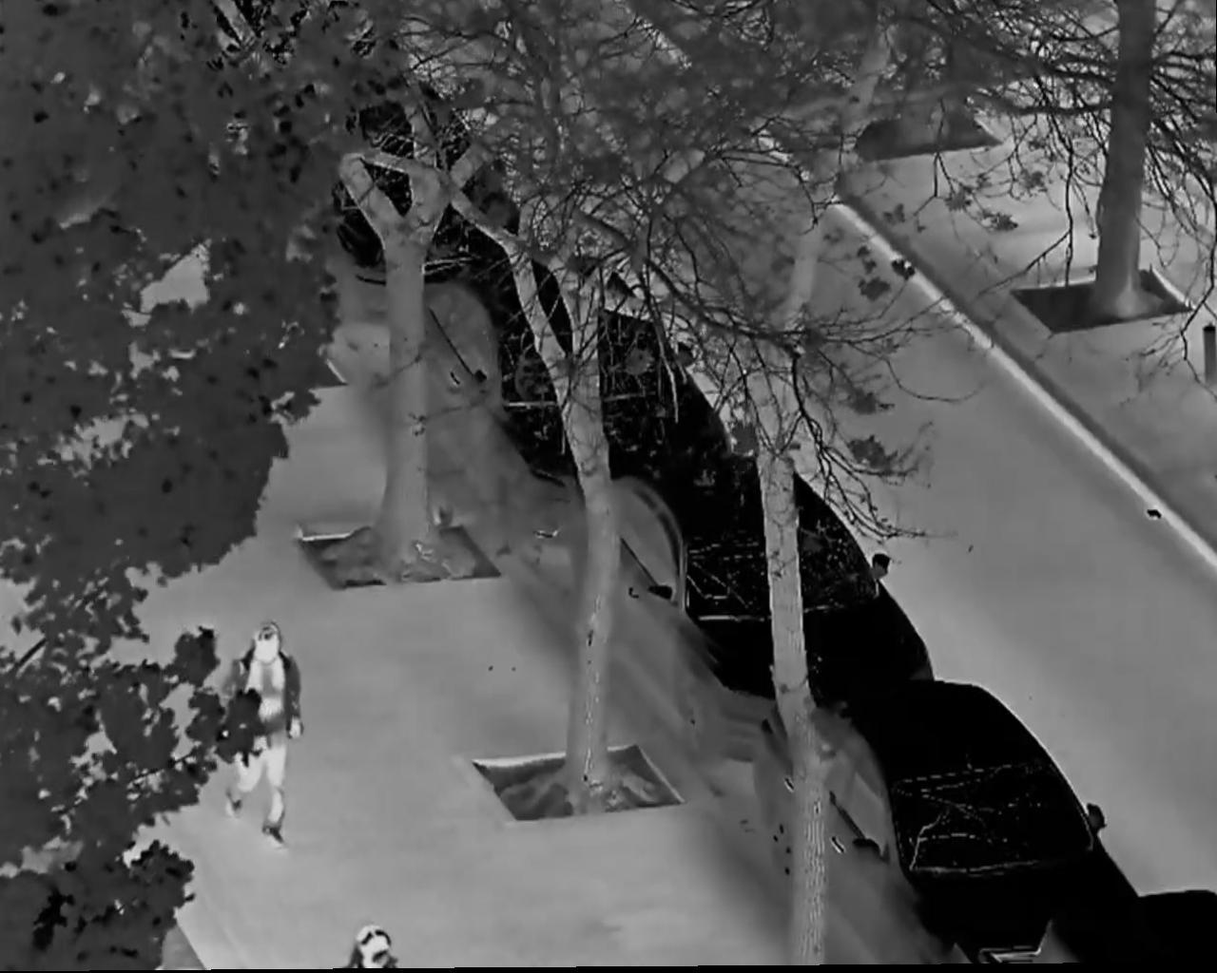person: (215, 622, 303, 842), (334, 925, 407, 973)
